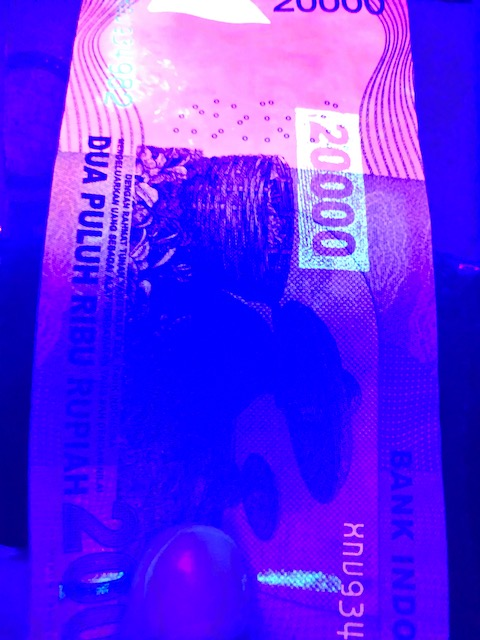20_RIBU_ASLI: (290, 99, 375, 278)
